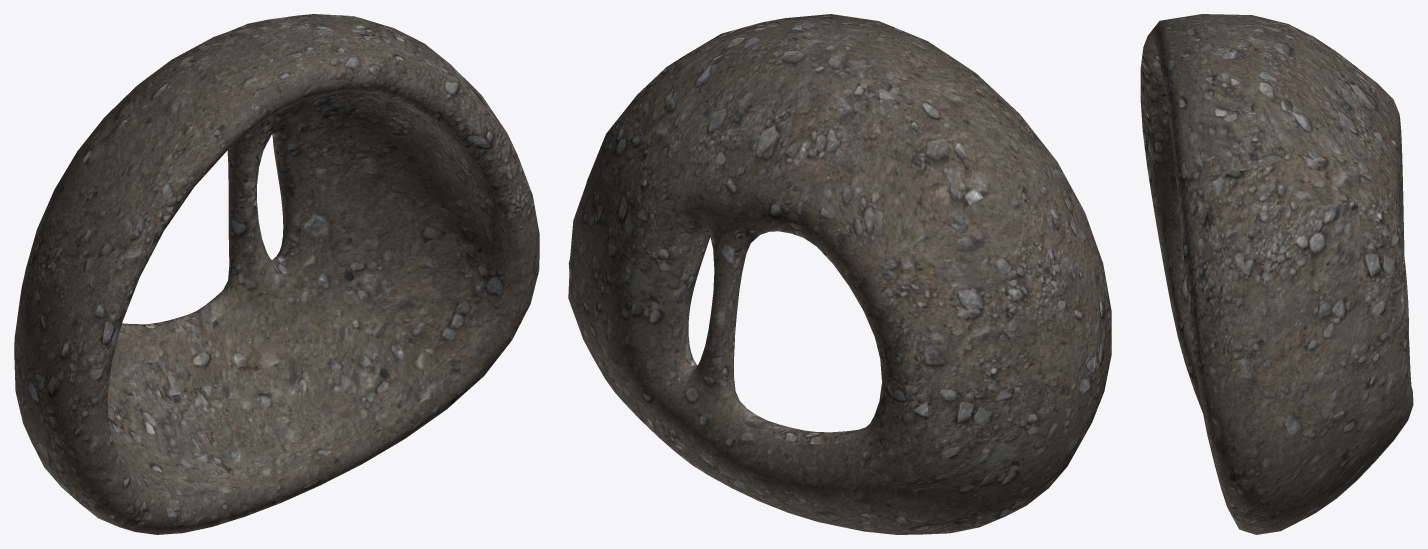
File: cave_module_opening_02.dae
3 views of the same model, side by side, from view 1: azimuth 30°, elevation 25°; view 2: azimuth 150°, elevation 25°; view 3: azimuth 270°, elevation 25° (orthographic).
Parts seen in each view (by area): view 1: opening_02; view 2: opening_02; view 3: opening_02.
Boxes of the visible parts, <box> form: opening_02: <box>14,14,539,534</box>; opening_02: <box>568,14,1111,534</box>; opening_02: <box>1140,14,1413,534</box>.
Size of what is drawn, in the model's own units: 11.33 by 10.19 by 5.3.
